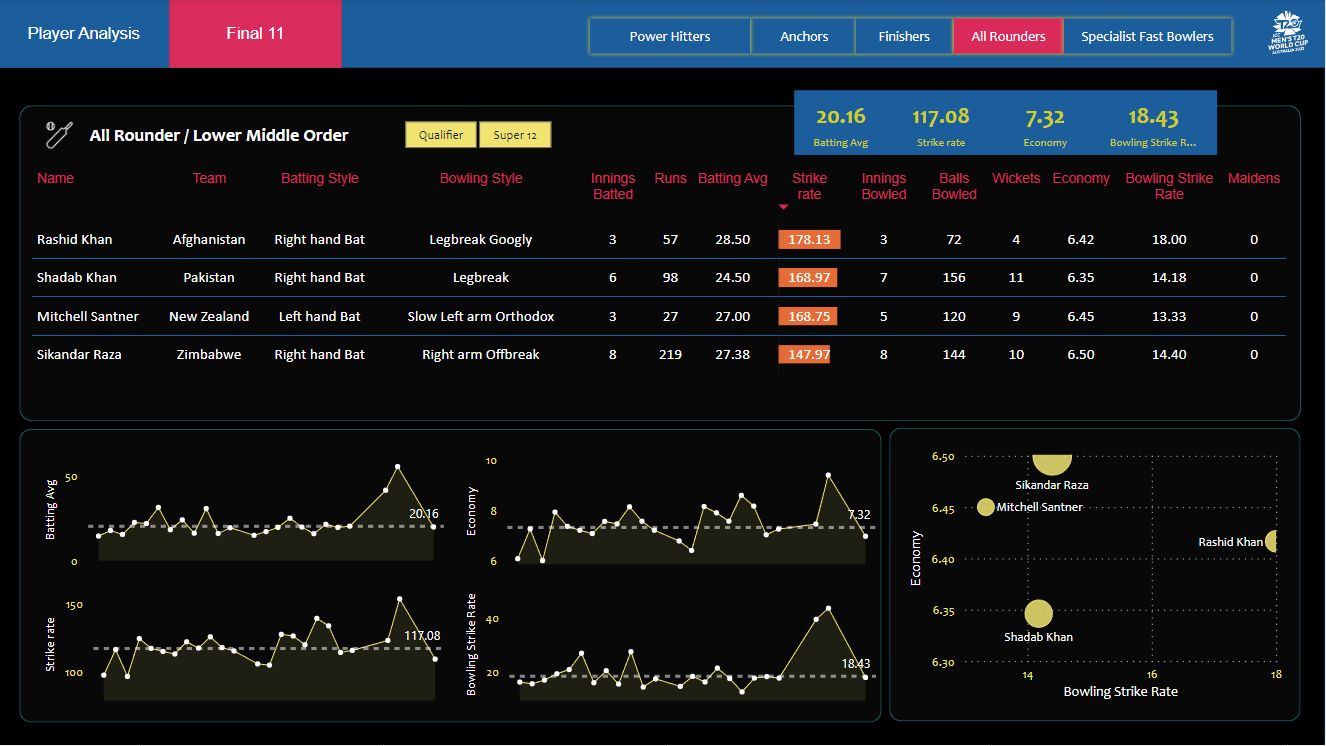

Layout of this report page (visuals, bound fields, positions):
{"tool":"powerbi","page":{"name":"New All Rounders / Lower Middle Order","canvas":[1280,720],"ordinal":3},"visuals":[{"type":"shape","box":[0,66,1280,654],"z":0},{"type":"card","fields":{"Values":["Key_Measures.Strike rate"]},"box":[864.9,89.2,90.8,60.3],"z":0,"group":"g2"},{"type":"shape","box":[83.7,116.3,260,31.2],"z":0,"group":"g1"},{"type":"card","fields":{"Values":["Key_Measures.Bat Avg"]},"box":[768.2,89.2,89.9,60.3],"z":1000,"group":"g2"},{"type":"image","box":[37.5,113.8,44,36],"z":1000,"group":"g1"},{"type":"shape","box":[20,414.4,832.2,283.3],"z":1000},{"type":"image","box":[1220,3,48,59],"z":2000},{"type":"card","fields":{"Values":["Key_Measures.Bowling Strike Rate"]},"box":[1066.1,89.2,97.7,60.3],"z":2000,"group":"g2"},{"type":"card","fields":{"Values":["Key_Measures.Economy"]},"box":[961.6,89.2,98.7,60.3],"z":3000,"group":"g2"},{"type":"shape","box":[20,102.2,1236.7,304.4],"z":3000},{"type":"group","id":"g1","title":"Group 2","box":[37.5,113.8,306.2,35],"z":4000},{"type":"slicer","fields":{"Values":["dim_match_summary.stage"]},"box":[366.7,111.1,191.1,38.9],"z":5000},{"type":"tableEx","fields":{"Values":["dim_player.name","Min(dim_player.team)","Min(dim_player.Batting Style)","Min(dim_player.Bowling Style)","Key_Measures.Total Innings Batted","Key_Measures.Total Runs","Key_Measures.Bat Avg","Key_Measures.Strike rate","Key_Measures.Total Innings Bowled","Key_Measures.Balls Bowled","Key_Measures.wickets","Key_Measures.Economy"]},"box":[26,151,1231,255],"z":6000},{"type":"shape","box":[768.2,88,407.6,62.7],"z":7000},{"type":"group","id":"g2","title":"Combined Perfoamce Metrices","box":[768.2,89.2,395.6,60.3],"z":9000},{"type":"scatterChart","fields":{"Category":["dim_player.name"],"X":["Key_Measures.Bowling Strike Rate"],"Y":["Key_Measures.Economy"],"Size":["Key_Measures.Total Runs"]},"box":[874.4,427,370,254],"z":10000},{"type":"actionButton","title":"Button Player Ana selected","box":[0,0,165.1,66.6],"z":11000},{"type":"actionButton","title":"Button Player Ana selected","box":[165.1,0,166.5,66.6],"z":12000},{"type":"shape","box":[859.5,414.3,396.7,283.1],"z":13000},{"type":"areaChart","fields":{"Category":["dim_match_summary.Match_Date.Variation.Date Hierarchy.Day"],"Y":["Key_Measures.Economy"]},"box":[446,430,406,126],"z":14000},{"type":"areaChart","fields":{"Category":["dim_match_summary.Match_Date.Variation.Date Hierarchy.Day"],"Y":["Key_Measures.Bowling Strike Rate"]},"box":[446,556,406,126],"z":15000},{"type":"areaChart","fields":{"Category":["dim_match_summary.Match_Date.Variation.Date Hierarchy.Day"],"Y":["Key_Measures.Bat Avg"]},"box":[40,428.9,395.6,126.7],"z":16000},{"type":"areaChart","fields":{"Category":["dim_match_summary.Match_Date.Variation.Date Hierarchy.Day"],"Y":["Key_Measures.Strike rate"]},"box":[40,555.6,396.7,125.6],"z":17000},{"type":"actionButton","title":"Button Player Ana selected","box":[0,0,165.2,66.3],"z":18000},{"type":"actionButton","title":"Button Player Ana selected","box":[165.2,0,166.4,66.3],"z":19000},{"type":"actionButton","box":[722.4,14.5,111,42.2],"z":20000},{"type":"actionButton","box":[566.8,14.5,162.8,42.2],"z":21000},{"type":"actionButton","box":[823.7,14.5,101.3,42.2],"z":22000},{"type":"actionButton","box":[917.8,14.5,114.6,42.2],"z":23000},{"type":"actionButton","box":[1023.9,14.5,170.1,42.2],"z":24000}]}

Visuals, with their boxes in screenshot pixels (x1, y1, x2, y2), scaled from the page's 1280x720 canvas onto the 1326x746 screenshot:
shape: bbox=(0, 68, 1325, 745)
card - Key_Measures.Strike rate: bbox=(896, 92, 990, 155)
shape: bbox=(87, 120, 356, 153)
card - Key_Measures.Bat Avg: bbox=(796, 92, 889, 155)
image: bbox=(39, 118, 84, 155)
shape: bbox=(21, 429, 883, 723)
image: bbox=(1264, 3, 1314, 64)
card - Key_Measures.Bowling Strike Rate: bbox=(1104, 92, 1206, 155)
card - Key_Measures.Economy: bbox=(996, 92, 1098, 155)
shape: bbox=(21, 106, 1302, 421)
"Group 2" group: bbox=(39, 118, 356, 154)
slicer - dim_match_summary.stage: bbox=(380, 115, 578, 155)
tableEx - dim_player.name x Min(dim_player.team): bbox=(27, 156, 1302, 421)
shape: bbox=(796, 91, 1218, 156)
"Combined Perfoamce Metrices" group: bbox=(796, 92, 1206, 155)
scatterChart - dim_player.name x Key_Measures.Bowling Strike Rate: bbox=(906, 442, 1289, 706)
"Button Player Ana selected" actionButton: bbox=(0, 0, 171, 69)
"Button Player Ana selected" actionButton: bbox=(171, 0, 344, 69)
shape: bbox=(890, 429, 1301, 723)
areaChart - dim_match_summary.Match_Date.Variation.Date Hierarchy.Day x Key_Measures.Economy: bbox=(462, 446, 883, 576)
areaChart - dim_match_summary.Match_Date.Variation.Date Hierarchy.Day x Key_Measures.Bowling Strike Rate: bbox=(462, 576, 883, 707)
areaChart - dim_match_summary.Match_Date.Variation.Date Hierarchy.Day x Key_Measures.Bat Avg: bbox=(41, 444, 451, 576)
areaChart - dim_match_summary.Match_Date.Variation.Date Hierarchy.Day x Key_Measures.Strike rate: bbox=(41, 576, 452, 706)
"Button Player Ana selected" actionButton: bbox=(0, 0, 171, 69)
"Button Player Ana selected" actionButton: bbox=(171, 0, 344, 69)
actionButton: bbox=(748, 15, 863, 59)
actionButton: bbox=(587, 15, 756, 59)
actionButton: bbox=(853, 15, 958, 59)
actionButton: bbox=(951, 15, 1070, 59)
actionButton: bbox=(1061, 15, 1237, 59)
